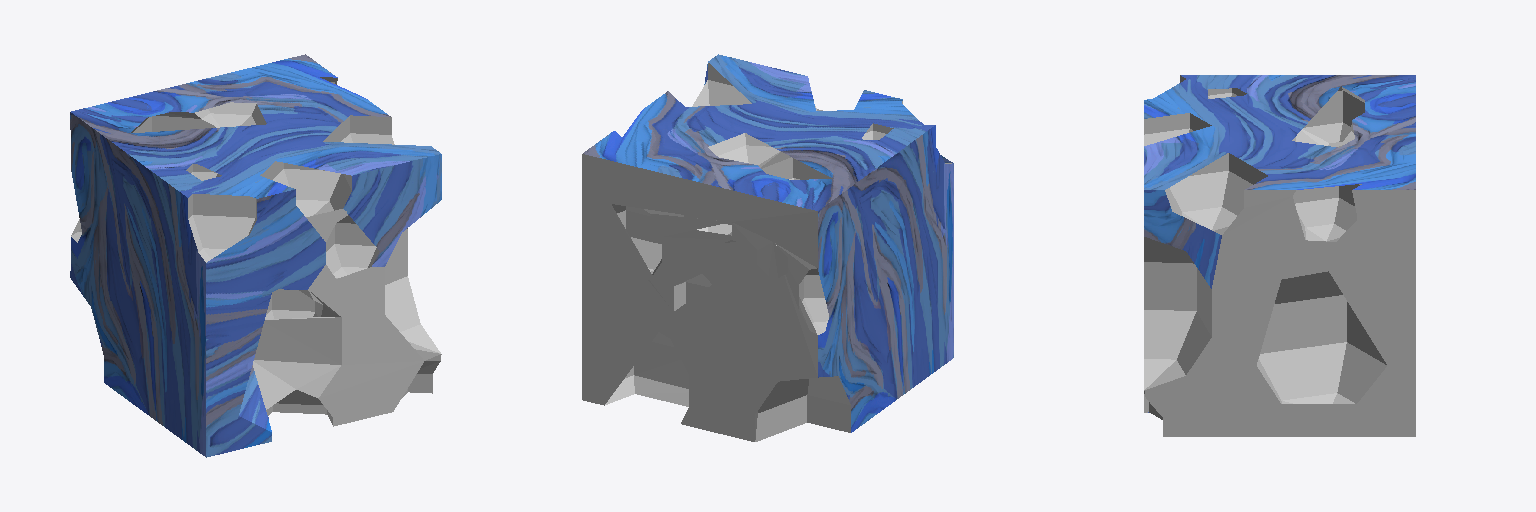
The picture shows the model from 3 angles: view 1: azimuth 30°, elevation 25°; view 2: azimuth 150°, elevation 25°; view 3: azimuth 270°, elevation 25°; orthographic projection.
Visible parts, largest first — view 1: Cube; view 2: Cube; view 3: Cube.
Boxes of the visible parts, box(x1,y1,x2,y2) form: Cube: box(70, 54, 441, 457); Cube: box(582, 54, 953, 441); Cube: box(1144, 75, 1415, 436).
Bounding box in the file's own units: 1.6 × 1.6 × 1.6.
Materials: 2 (1 with a texture image).